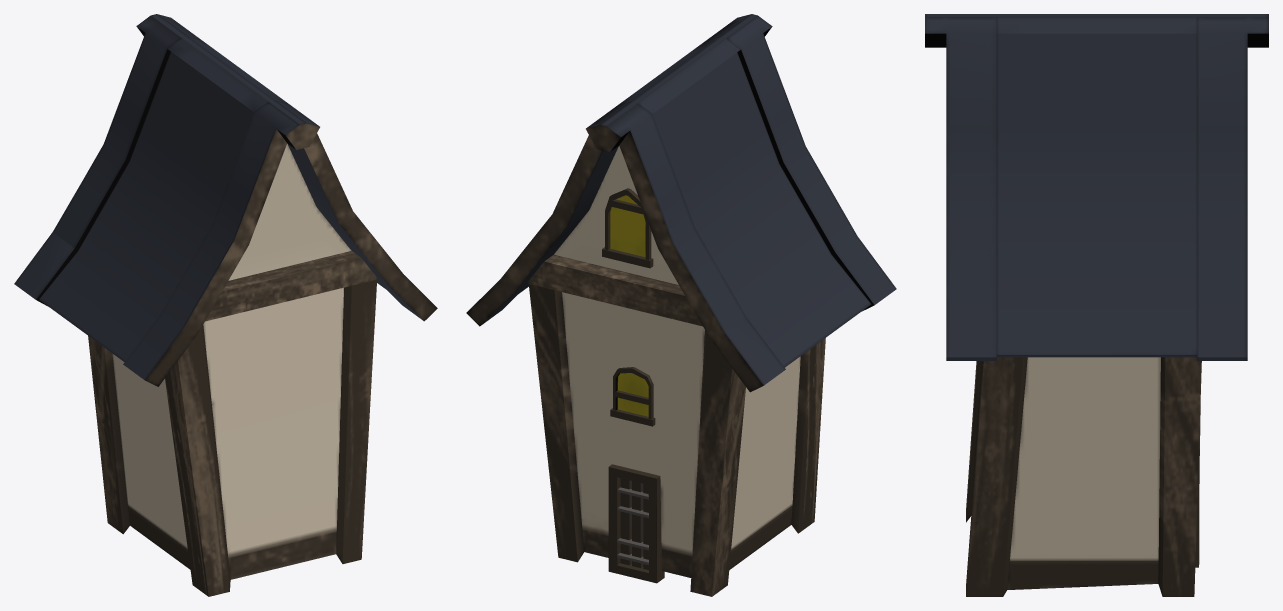
The model's file is 1st_Home.fbx.
3 renders of one model, left to right at view 1: azimuth 30°, elevation 25°; view 2: azimuth 150°, elevation 25°; view 3: azimuth 270°, elevation 25°, orthographic. The views are drawn at different scales.
Visible parts, largest first — view 1: polySurface116; view 2: polySurface116; view 3: polySurface116.
Part boxes in pixels (x1=…): polySurface116: x1=14, y1=14, x2=437, y2=596; polySurface116: x1=466, y1=14, x2=896, y2=596; polySurface116: x1=925, y1=14, x2=1268, y2=596.
Bounding box in the file's own units: 1.77 × 2.7 × 1.56.
Materials: 1 (1 with a texture image).
